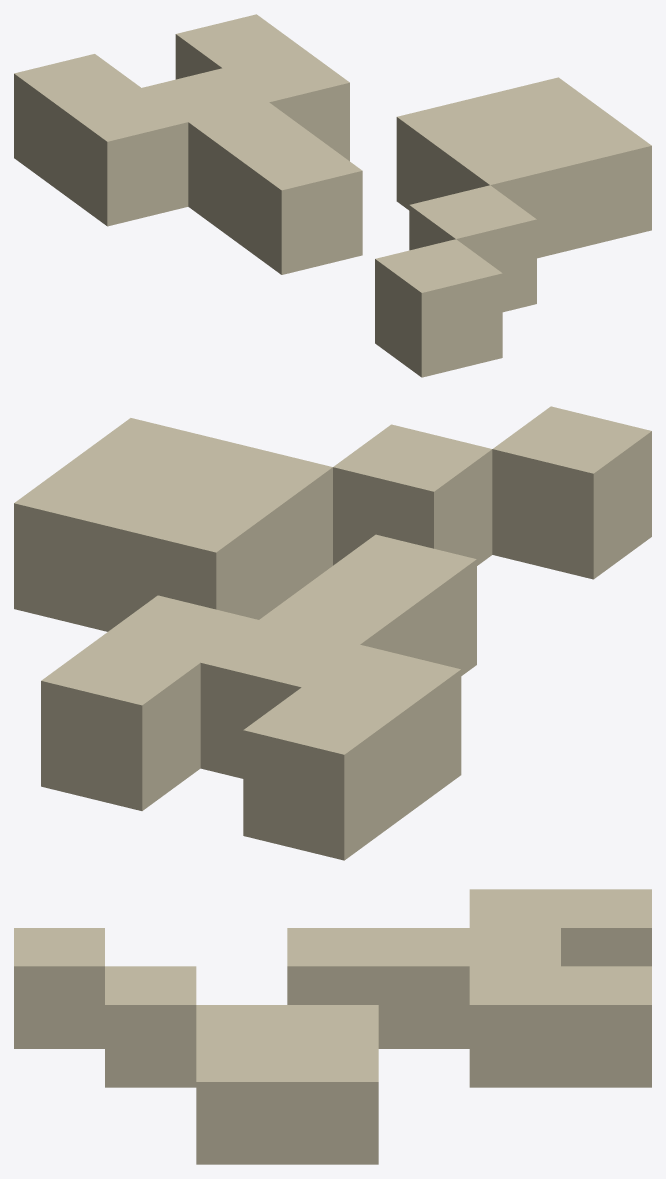
Rendered from 3D Voxel Park-3.obj.
The picture shows the model from 3 angles, top to bottom: view 1: azimuth 30°, elevation 25°; view 2: azimuth 150°, elevation 25°; view 3: azimuth 270°, elevation 25°; orthographic projection. The views are drawn at different scales.
Size of the model in its own units: 0.5 by 0.1 by 0.7.
1 material, 1 textured.
